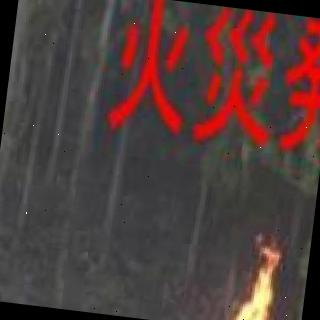fire: (165, 225, 311, 320)
